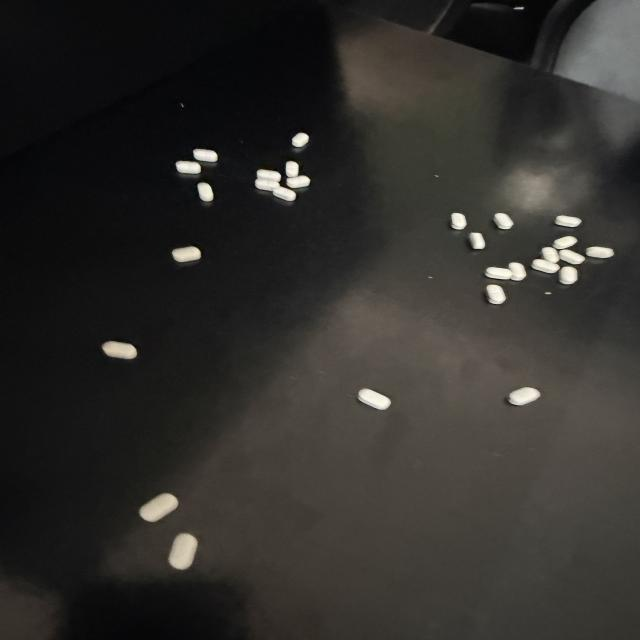pill: (139, 494, 178, 522), (169, 534, 197, 570), (358, 389, 390, 410), (102, 341, 137, 359), (509, 387, 540, 405), (172, 246, 201, 262), (559, 249, 585, 264), (558, 266, 578, 285), (493, 212, 514, 230), (532, 259, 559, 273), (487, 285, 506, 304), (553, 236, 577, 250), (176, 161, 201, 174), (485, 267, 512, 279), (273, 187, 296, 201), (255, 178, 279, 191), (193, 149, 217, 162), (257, 169, 281, 182), (586, 247, 614, 258), (555, 216, 582, 227), (509, 263, 526, 280), (469, 232, 485, 250), (287, 176, 310, 188), (198, 183, 213, 201), (541, 247, 559, 262), (451, 213, 466, 229), (292, 133, 309, 147), (286, 161, 299, 177)
